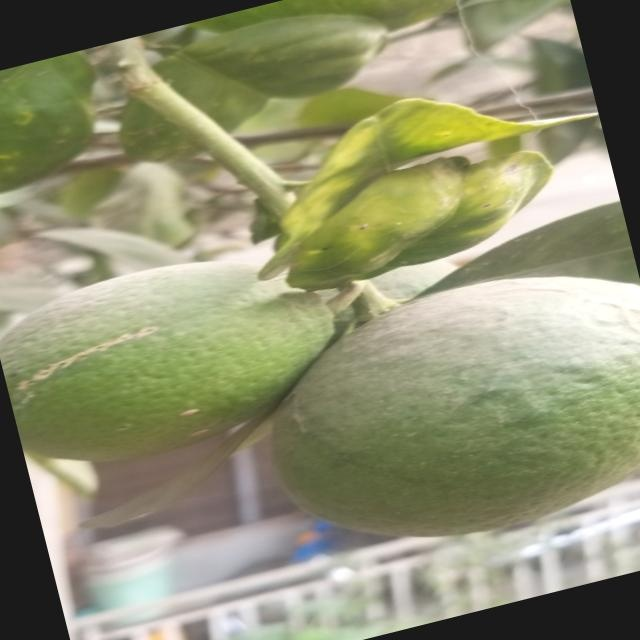agrume: (205, 241, 640, 597), (0, 225, 344, 492)
